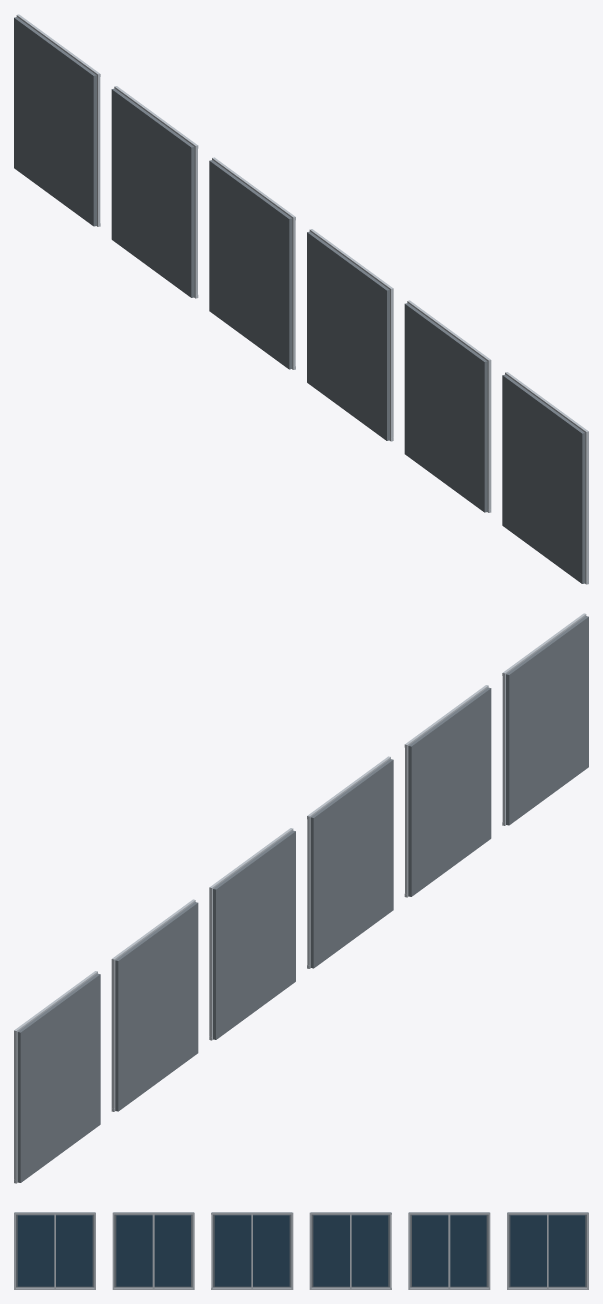
Rendered from SM_MPR4_OfficeGlazing_East.fbx.
3 views of the same model, one above another, from view 1: azimuth 30°, elevation 25°; view 2: azimuth 150°, elevation 25°; view 3: azimuth 270°, elevation 25° (orthographic). The views are drawn at different scales.
Parts seen in each view (by area): view 1: SM_MPR4_OfficeGlazing_East; view 2: SM_MPR4_OfficeGlazing_East; view 3: SM_MPR4_OfficeGlazing_East.
Boxes of the visible parts, box(x1,y1,x2,y2) form: SM_MPR4_OfficeGlazing_East: box(14, 14, 588, 584); SM_MPR4_OfficeGlazing_East: box(14, 613, 588, 1183); SM_MPR4_OfficeGlazing_East: box(14, 1212, 588, 1289).
Bounding box in the file's own units: 10.5 × 1750 × 259.
